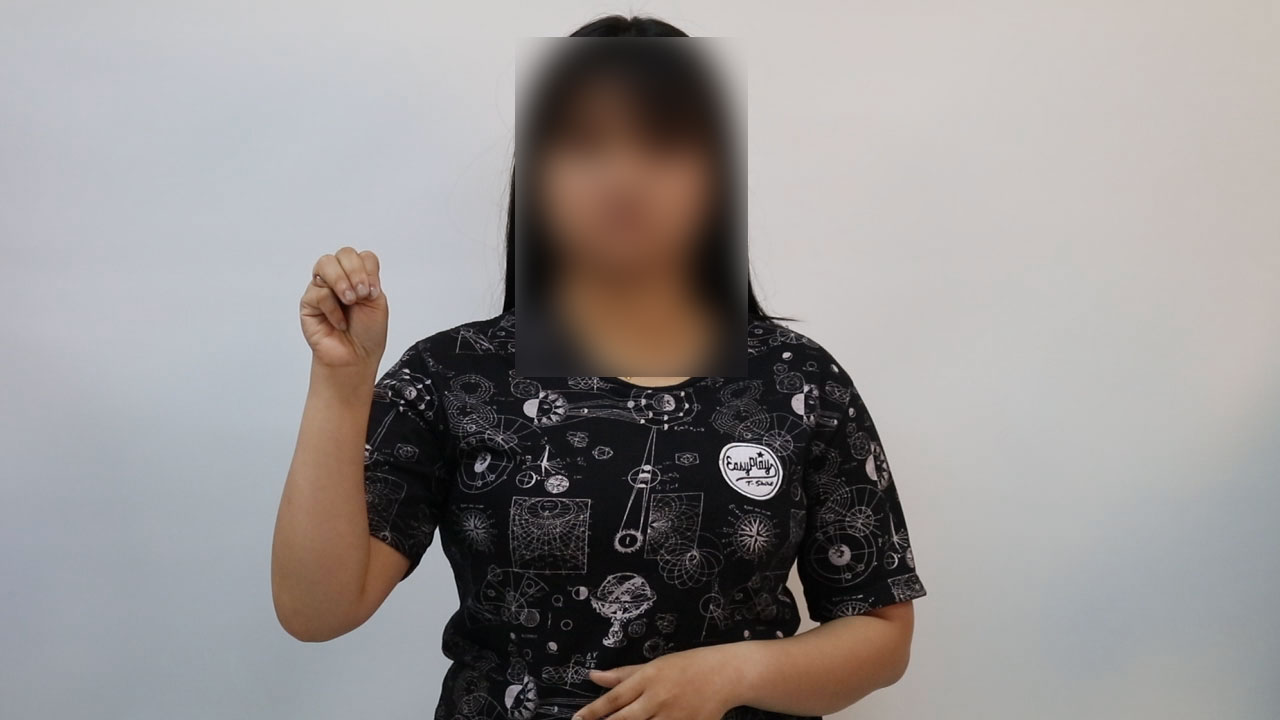mor: (284, 228, 401, 386)
